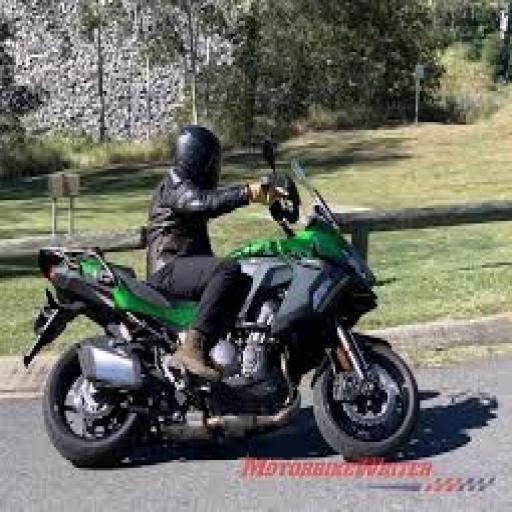helmet: (22, 135, 420, 468), (143, 120, 289, 382), (171, 122, 223, 187)
